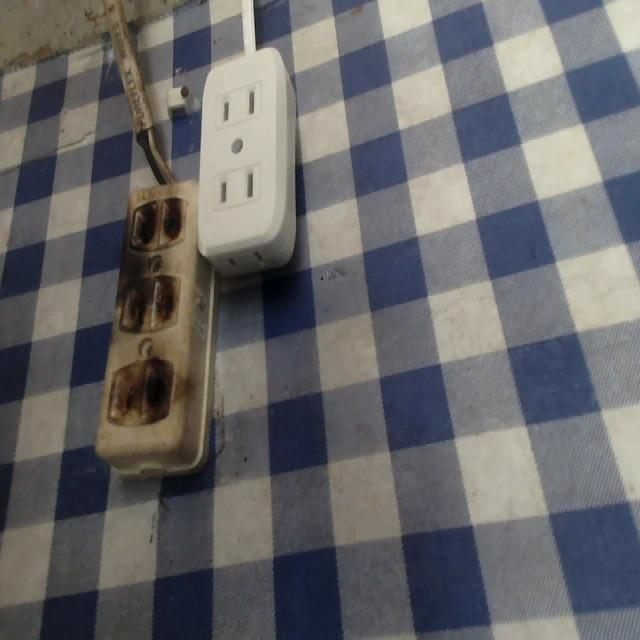-: (104, 354, 180, 430), (118, 272, 186, 328), (128, 192, 190, 252)
